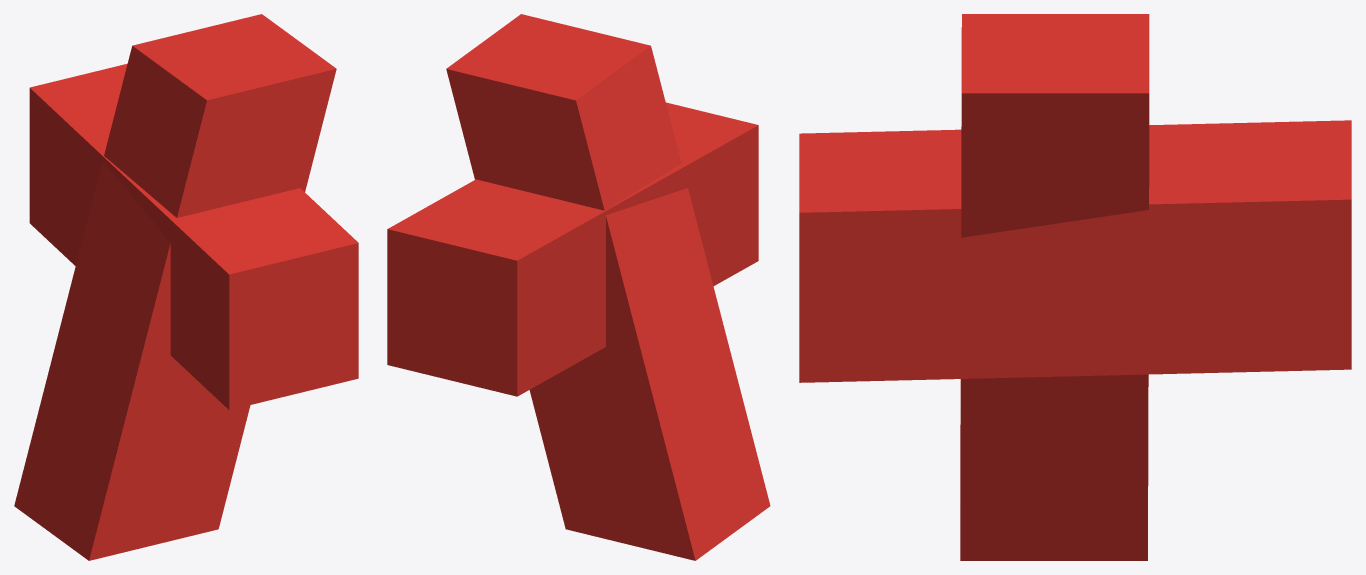
The model's file is player.gltf.
3 renders of one model, left to right at view 1: azimuth 30°, elevation 25°; view 2: azimuth 150°, elevation 25°; view 3: azimuth 270°, elevation 25°, orthographic. The views are drawn at different scales.
Parts seen in each view (by area): view 1: Cube; view 2: Cube; view 3: Cube.
Boxes of the visible parts, x1,y1,x2,y2 form: Cube: (14,14,358,560); Cube: (387,14,770,560); Cube: (799,14,1351,560).
Bounding box in the file's own units: 3.83 × 6.36 × 5.89.
